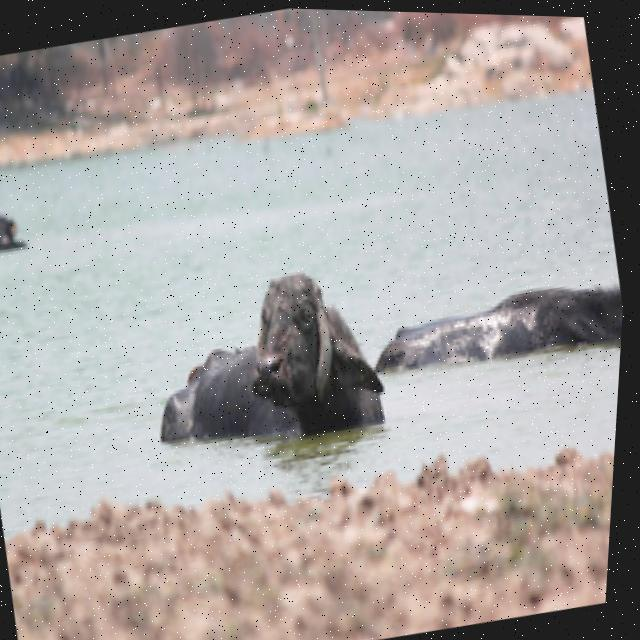Buffalo: (127, 249, 404, 469)
